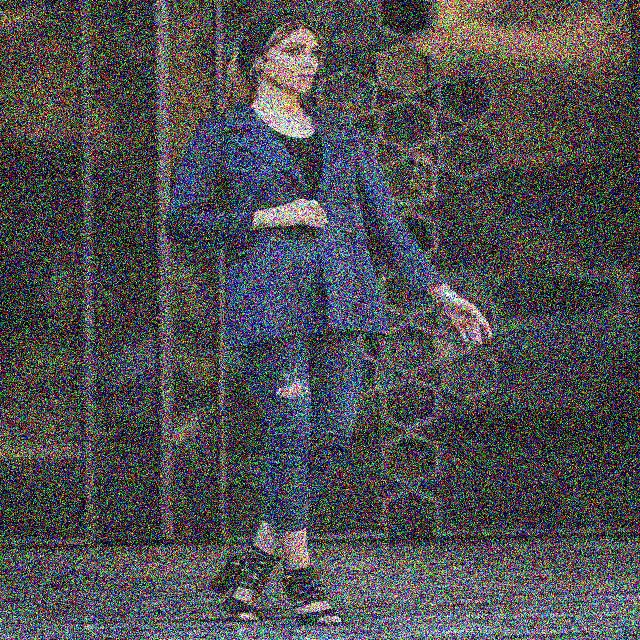ripped_pants: (237, 338, 365, 535)
